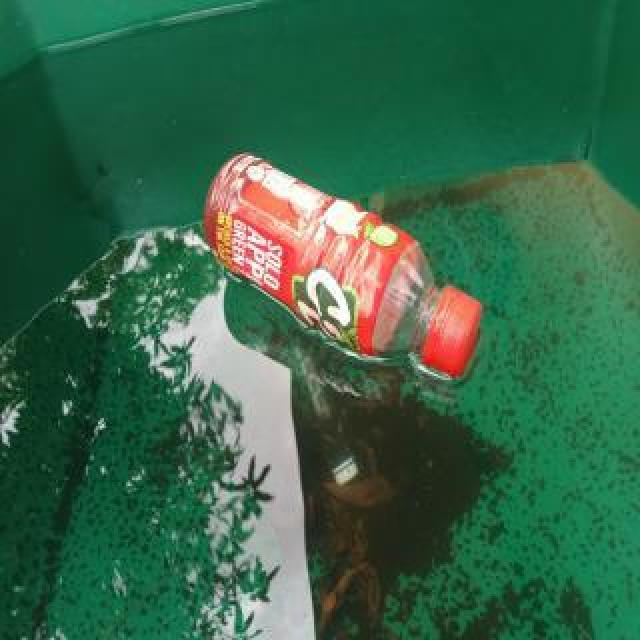bottle: (202, 149, 484, 387)
